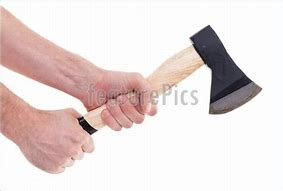axe: (55, 24, 264, 152)
